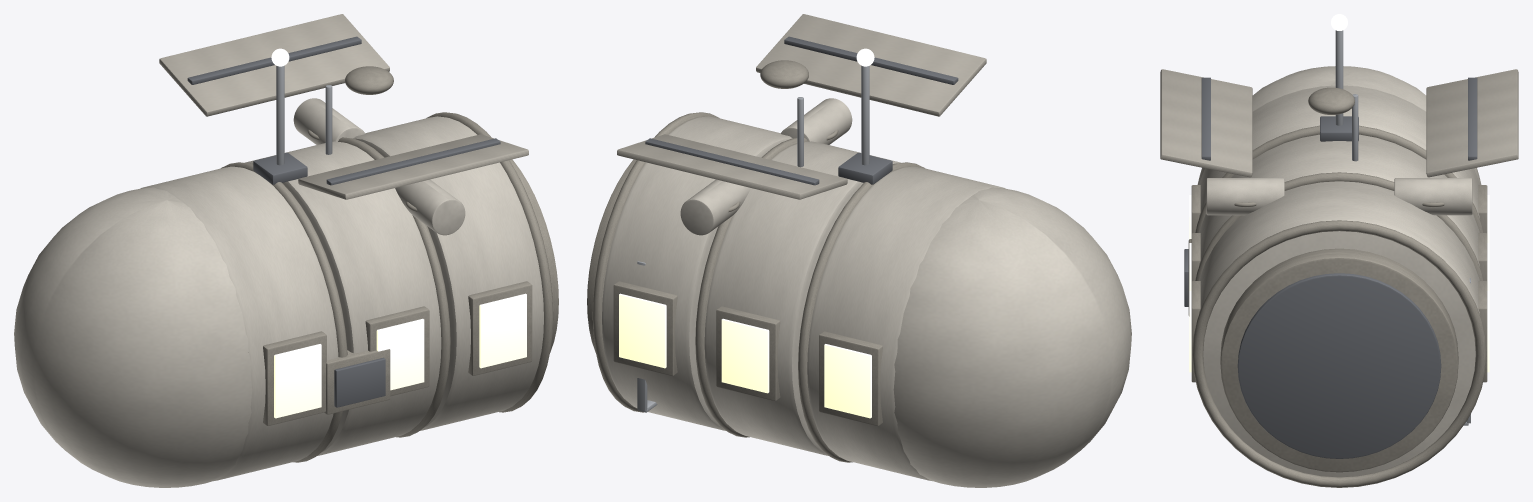
The model's file is lunar-habitat.glb.
3 views of the same model, side by side, from view 1: azimuth 30°, elevation 25°; view 2: azimuth 150°, elevation 25°; view 3: azimuth 270°, elevation 25° (orthographic). The views are drawn at different scales.
Parts seen in each view (by area): view 1: LunarHabitat; view 2: LunarHabitat; view 3: LunarHabitat.
Part boxes in pixels (left/top/right/bottom): LunarHabitat: left=14, top=14, right=558, bottom=487; LunarHabitat: left=587, top=14, right=1131, bottom=487; LunarHabitat: left=1160, top=14, right=1518, bottom=487.
Bounding box in the file's own units: 0.6617 × 0.539 × 0.458.
Materials: 7 (3 with a texture image).
